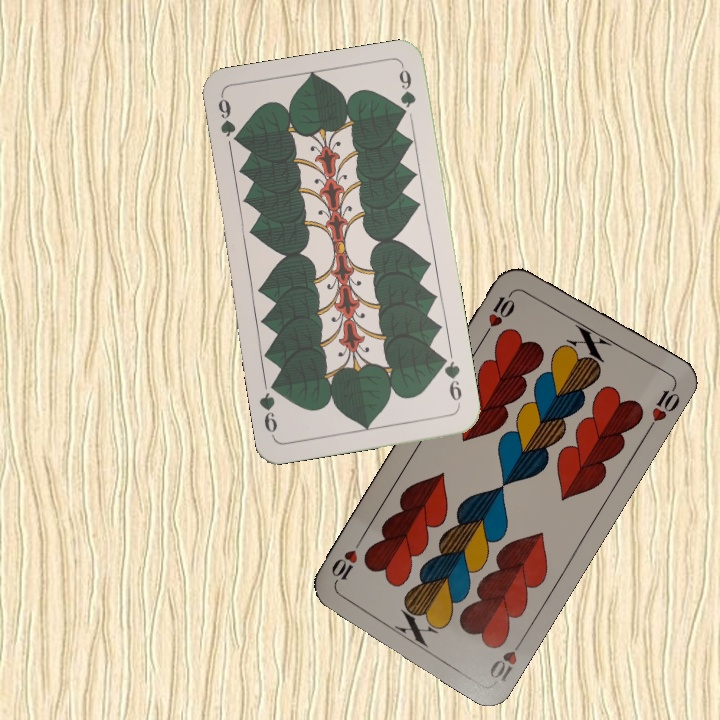G9: (436, 351, 465, 409), (213, 93, 241, 146)
H10: (485, 631, 528, 685), (480, 285, 519, 338)
